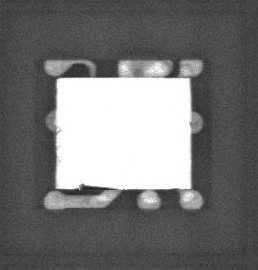DIE_BROKEN: (75, 181, 117, 191)
